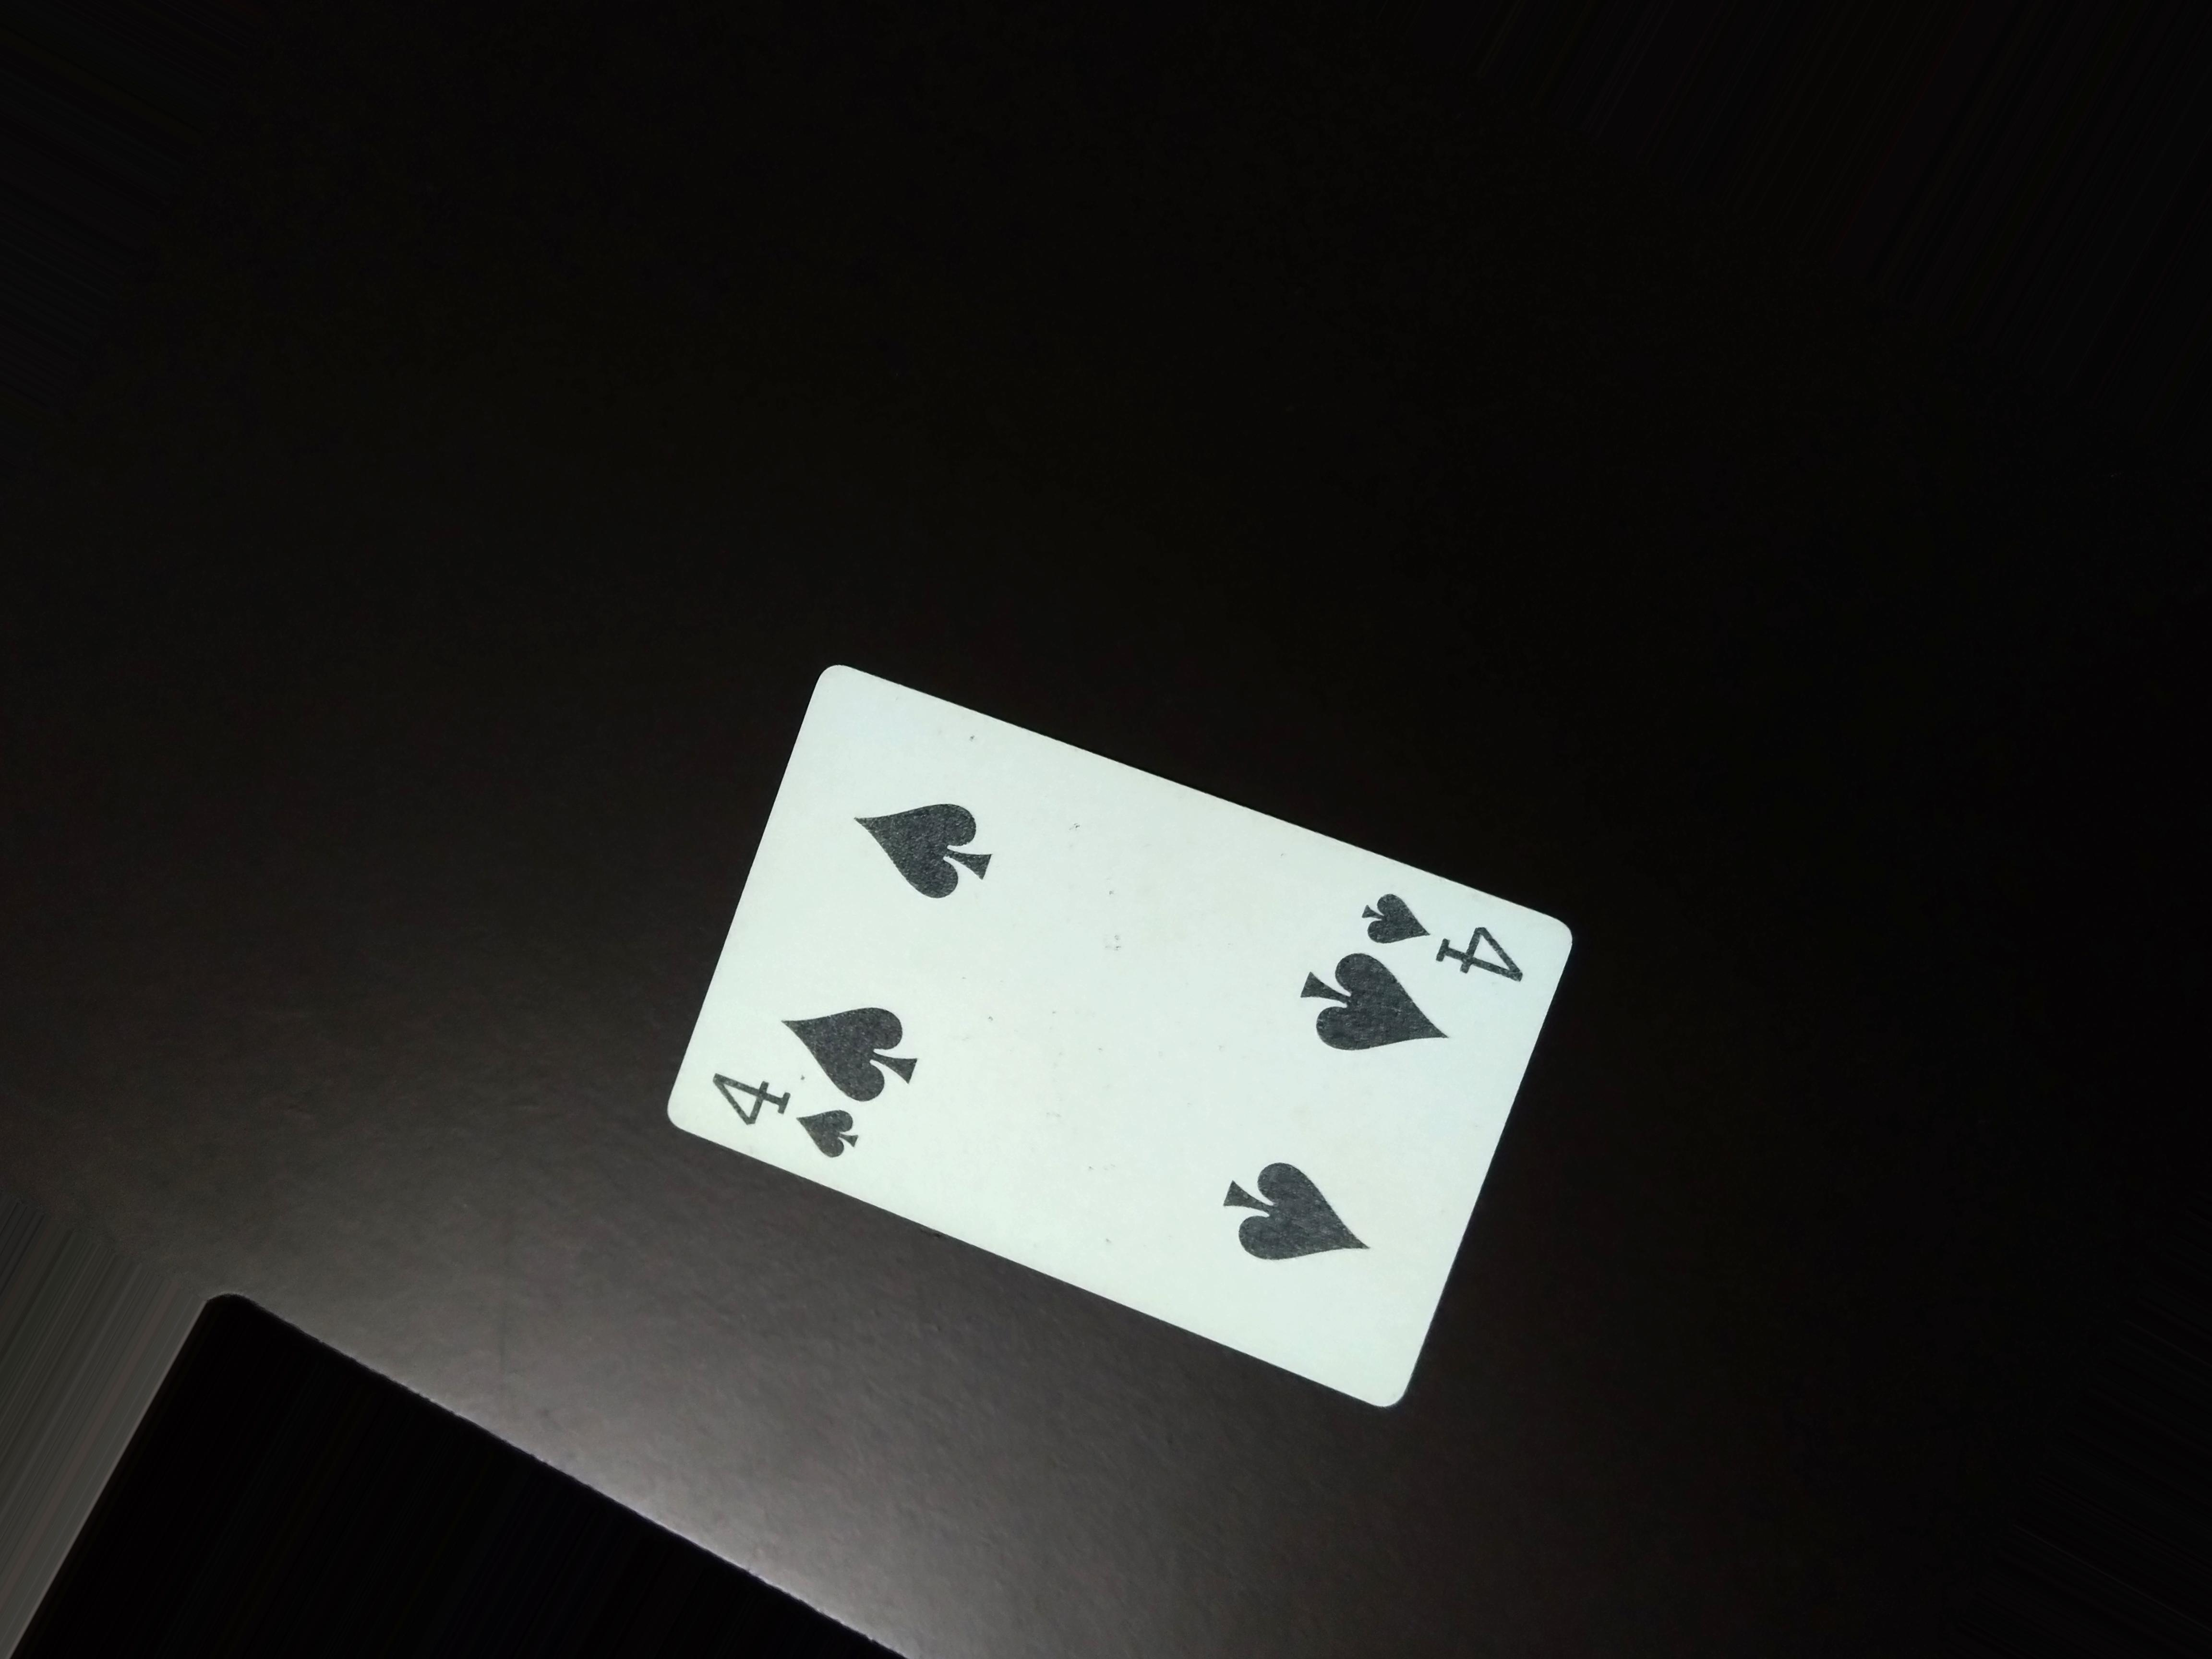4S: (691, 1054, 874, 1161)
